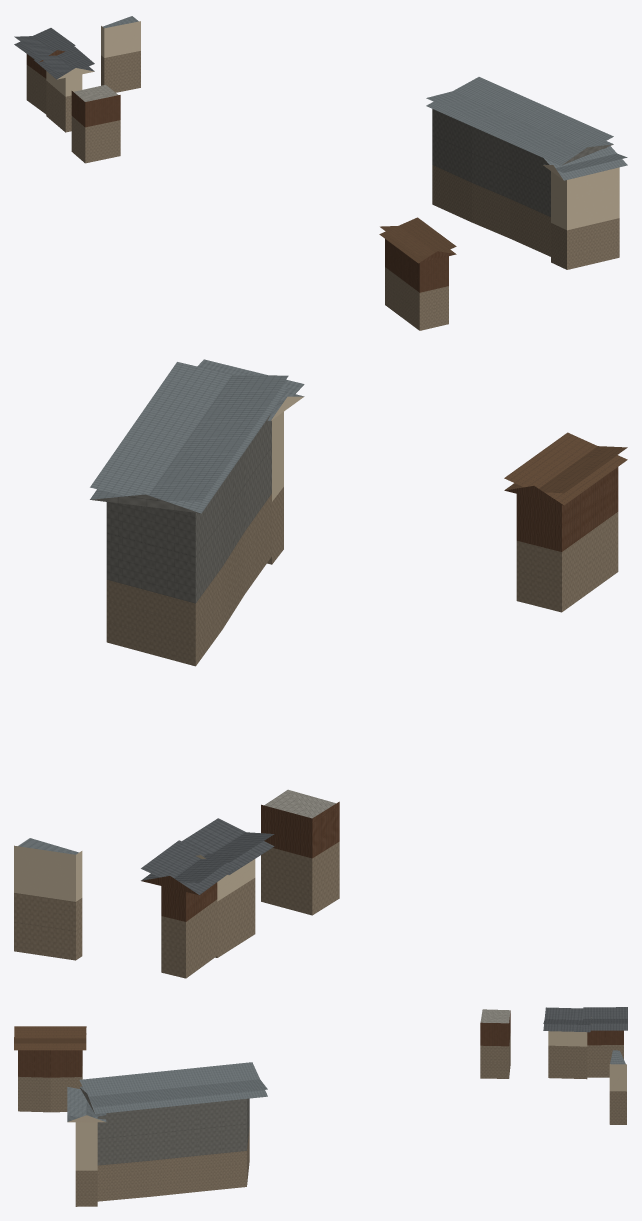
The model's file is bld_c32_-39_451.gltf.
3 views of the same model, one above another, from view 1: azimuth 30°, elevation 25°; view 2: azimuth 150°, elevation 25°; view 3: azimuth 270°, elevation 25° (orthographic). The views are drawn at different scales.
Visible parts, largest first — view 1: bld_c32_-39_451; view 2: bld_c32_-39_451; view 3: bld_c32_-39_451.
Part boxes in pixels (box(x1,y1,x2,y2)): bld_c32_-39_451: box(14, 16, 627, 330); bld_c32_-39_451: box(14, 359, 627, 978); bld_c32_-39_451: box(14, 1007, 627, 1206).
Bounding box in the file's own units: 42.48 × 14.4 × 78.68.
Materials: 11 (11 with a texture image).
